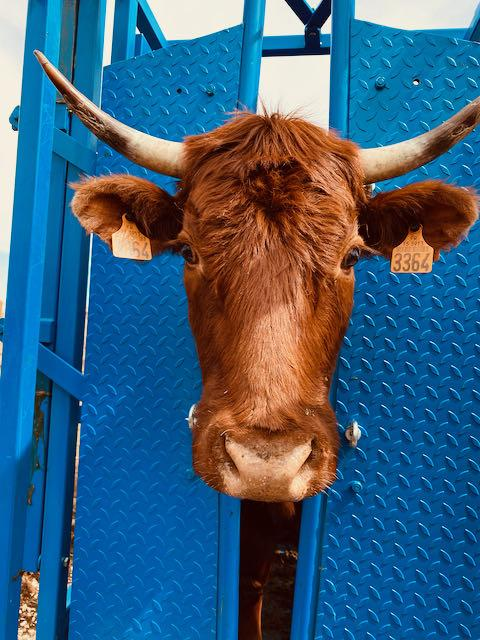muzzles: (183, 412, 347, 511)
